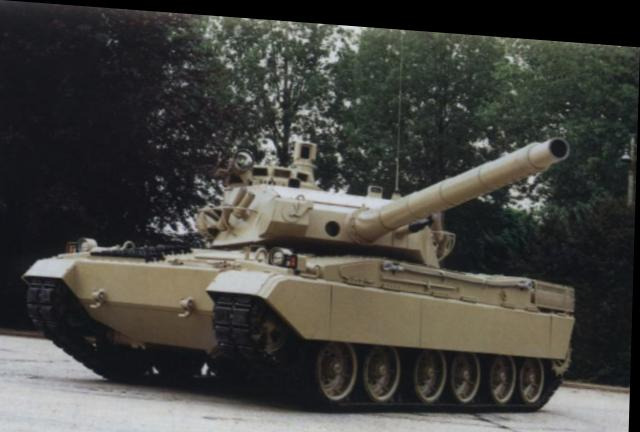tank: (25, 163, 602, 412)
